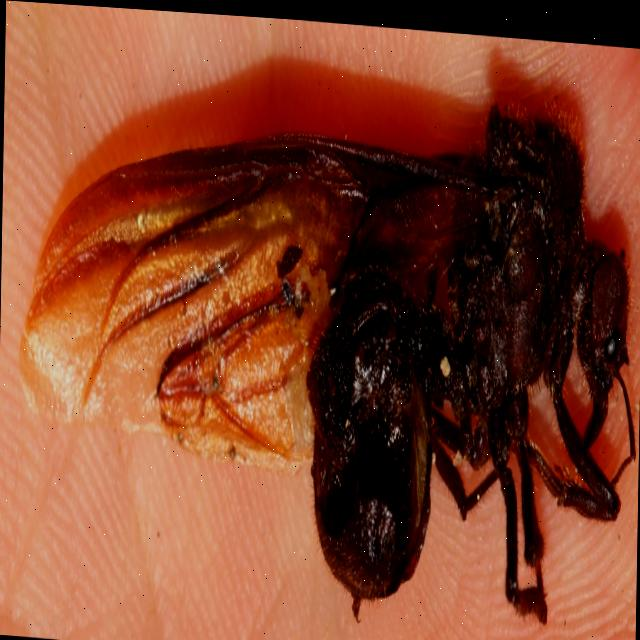Dead-Female-Alate: (16, 62, 640, 640)
